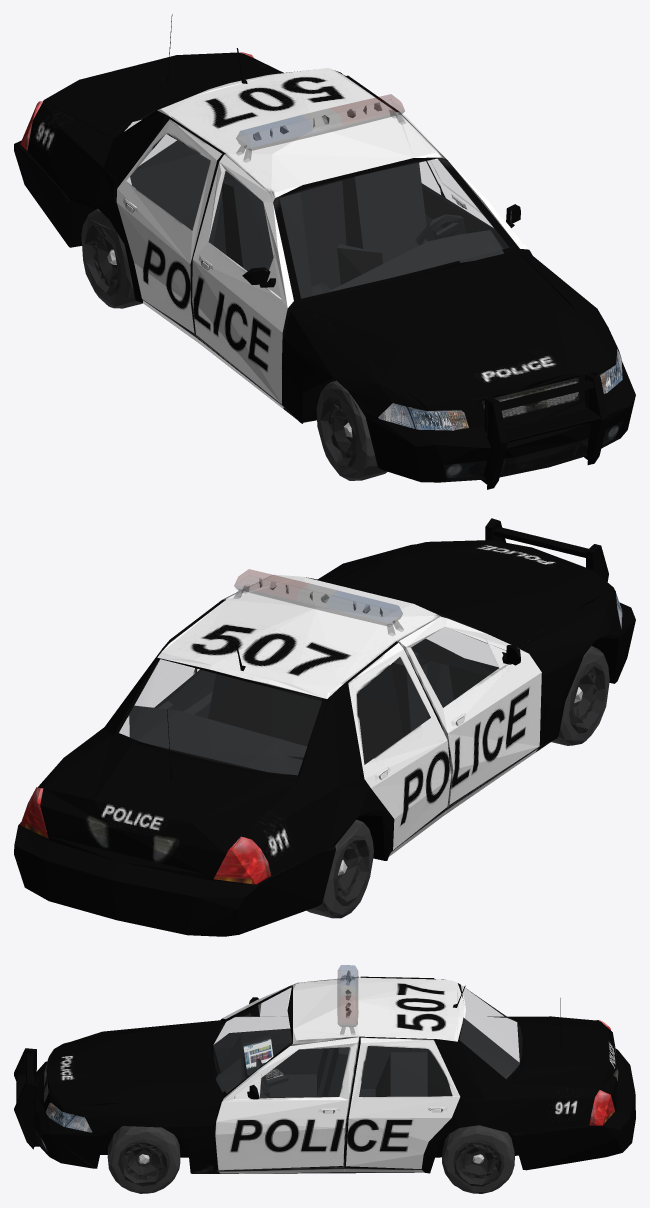
File: police.glb
3 renders of one model, top to bottom at view 1: azimuth 30°, elevation 25°; view 2: azimuth 150°, elevation 25°; view 3: azimuth 270°, elevation 25°, orthographic. The views are drawn at different scales.
Parts seen in each view (by area): view 1: CrownVic.Body_0, windows glass_0, interior_0, CrownVic.Wheel.Ft.L_0, Roof light bar_0; view 2: CrownVic.Body_0, windows glass_0, interior_0, CrownVic.Wheel.Ft.L_0, Roof light bar_0; view 3: CrownVic.Body_0, windows glass_0, interior_0, CrownVic.Wheel.Ft.L_0, Roof light bar_0.
Part boxes in pixels (x1,y1,x2,y2): CrownVic.Body_0: (14,14,635,489); windows glass_0: (124,110,508,297); interior_0: (130,140,509,420); CrownVic.Wheel.Ft.L_0: (81,209,387,480); Roof light bar_0: (236,94,405,162); CrownVic.Body_0: (14,518,635,936); windows glass_0: (119,610,498,774); interior_0: (129,638,498,775); CrownVic.Wheel.Ft.L_0: (306,646,609,918); Roof light bar_0: (233,569,403,635); CrownVic.Body_0: (14,976,635,1173); windows glass_0: (213,985,522,1097); interior_0: (213,1017,519,1098); CrownVic.Wheel.Ft.L_0: (107,1073,514,1193); Roof light bar_0: (337,965,358,1034).
Size of the model in its own units: 1.8 by 1.45 by 4.9.
7 materials, 5 textured.
